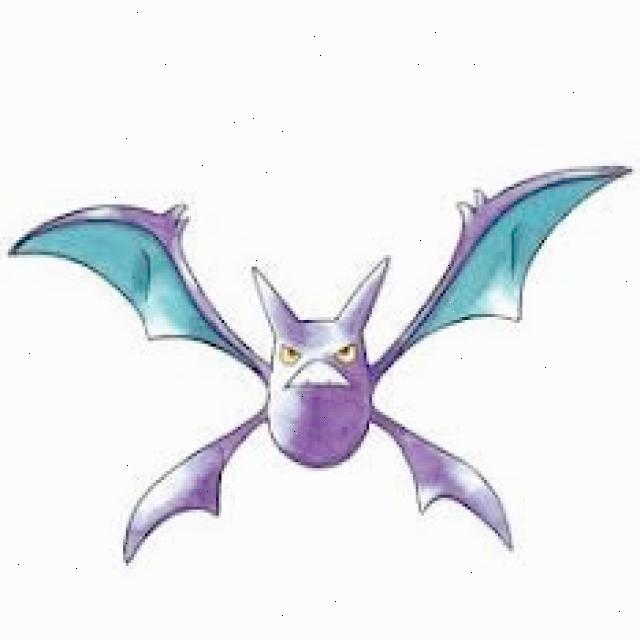crobat: (2, 162, 640, 564)
